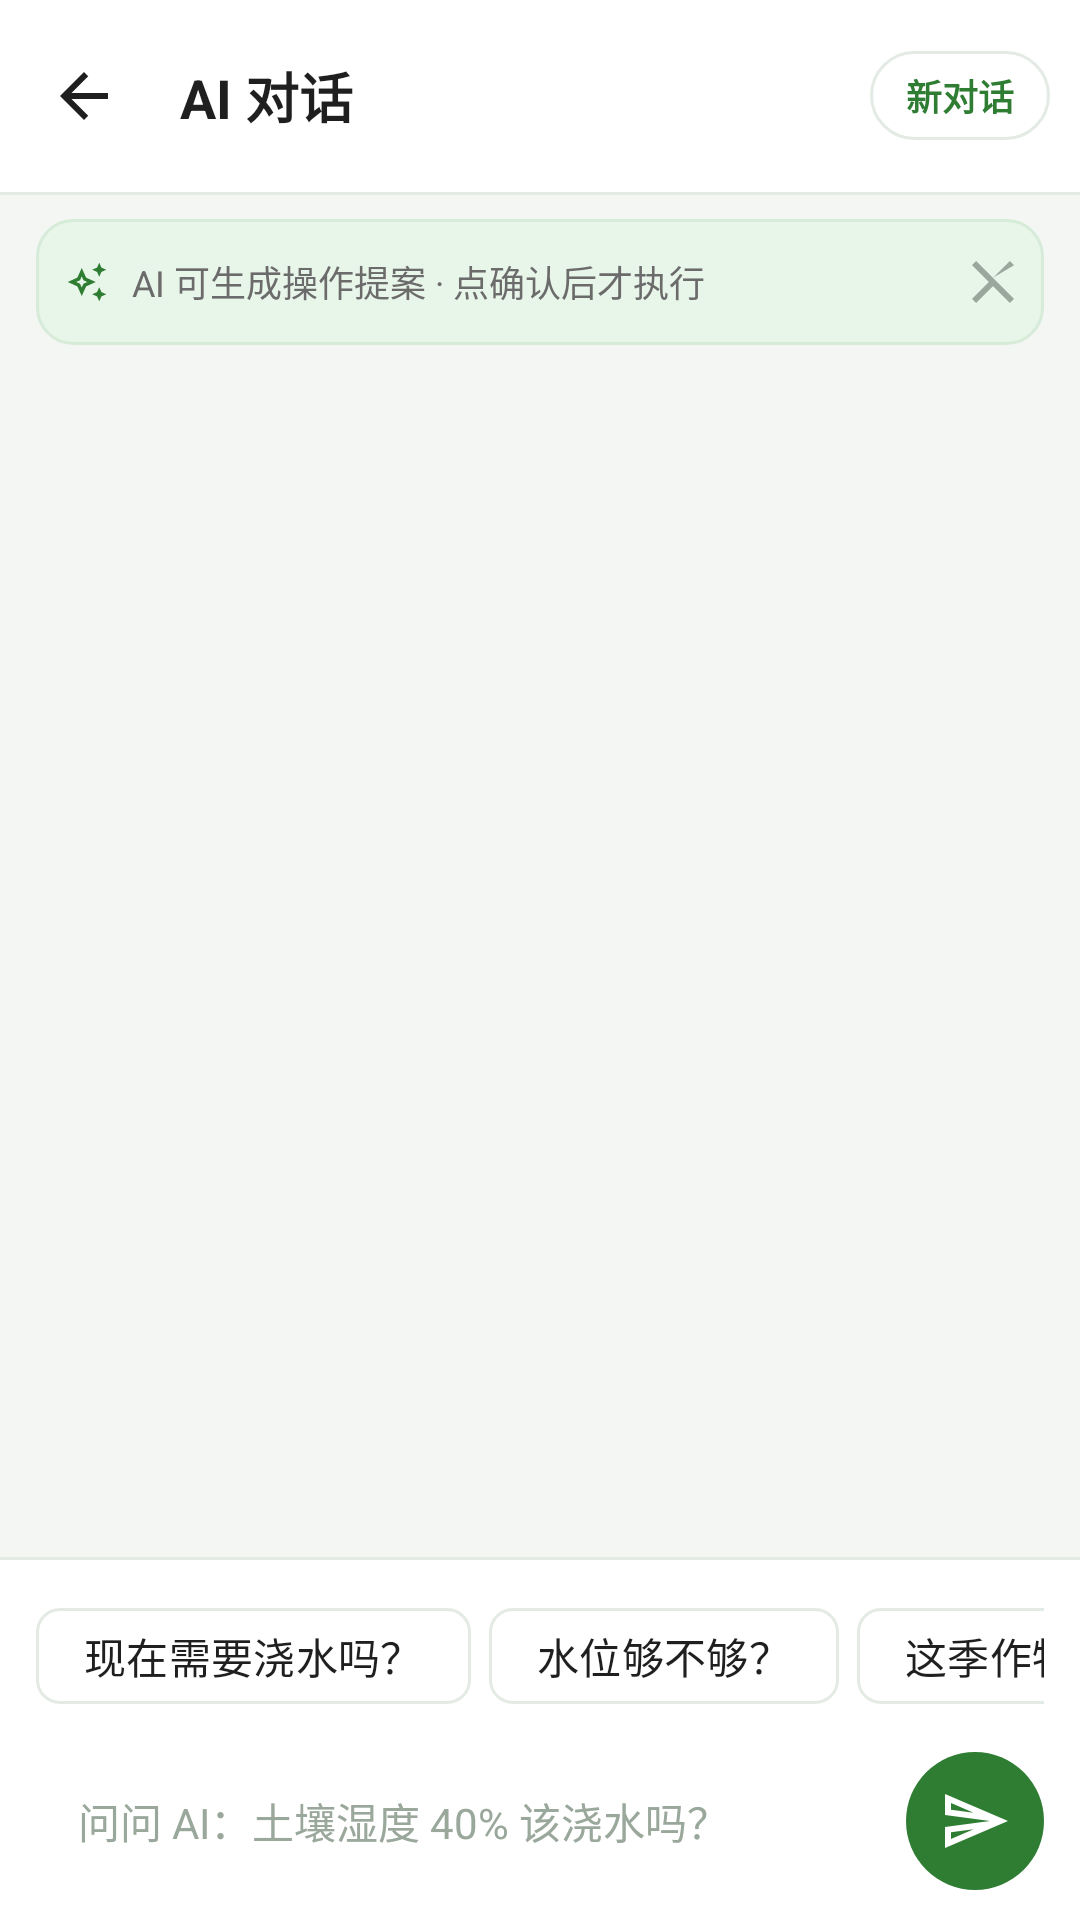

Icon click points for this 1080px×1920px phone screenshot, format (x,y):
sparkle: (87,282)
关闭提示: (993,282)
发送: (975,1821)
